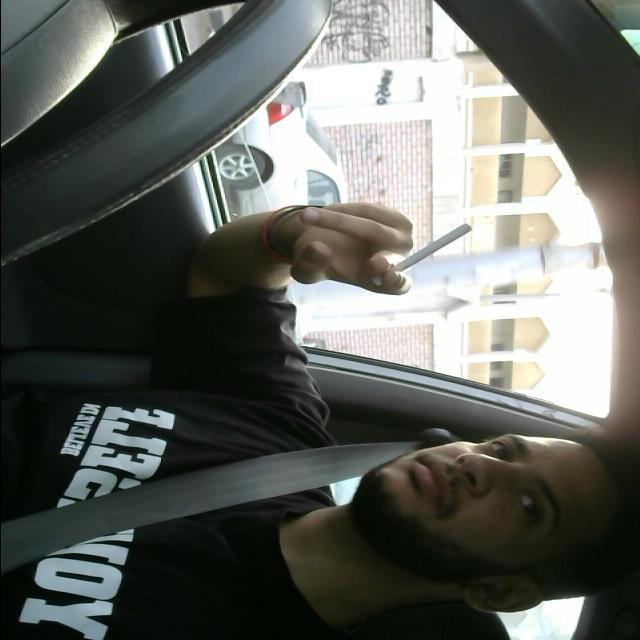smoking: (370, 222, 469, 286)
